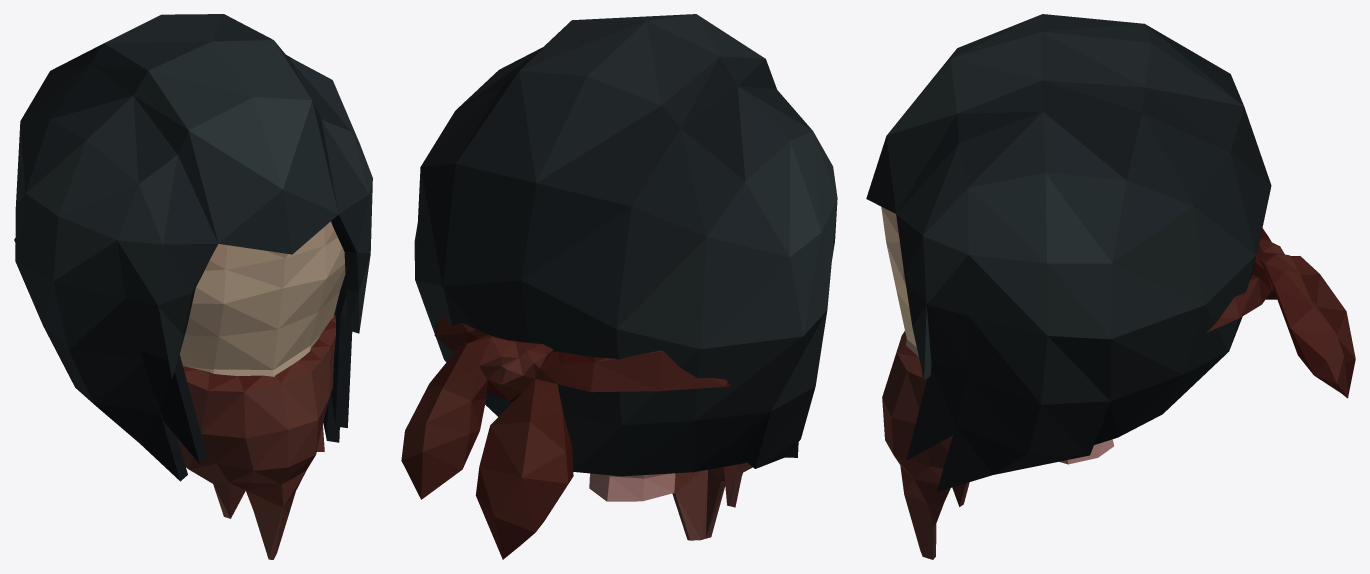
The model's file is helm_lightskin_bob_black_bandana.fbx.
The picture shows the model from 3 angles, left to right: view 1: azimuth 30°, elevation 25°; view 2: azimuth 150°, elevation 25°; view 3: azimuth 270°, elevation 25°; orthographic projection. The views are drawn at different scales.
Parts seen in each view (by area): view 1: helm_lightskin_bob_black_bandana; view 2: helm_lightskin_bob_black_bandana; view 3: helm_lightskin_bob_black_bandana.
Boxes of the visible parts, x1=… form: helm_lightskin_bob_black_bandana: x1=14, y1=14, x2=372, y2=559; helm_lightskin_bob_black_bandana: x1=401, y1=14, x2=837, y2=559; helm_lightskin_bob_black_bandana: x1=866, y1=14, x2=1355, y2=559.
Size of the model in its own units: 1.18 by 1.65 by 1.4.
